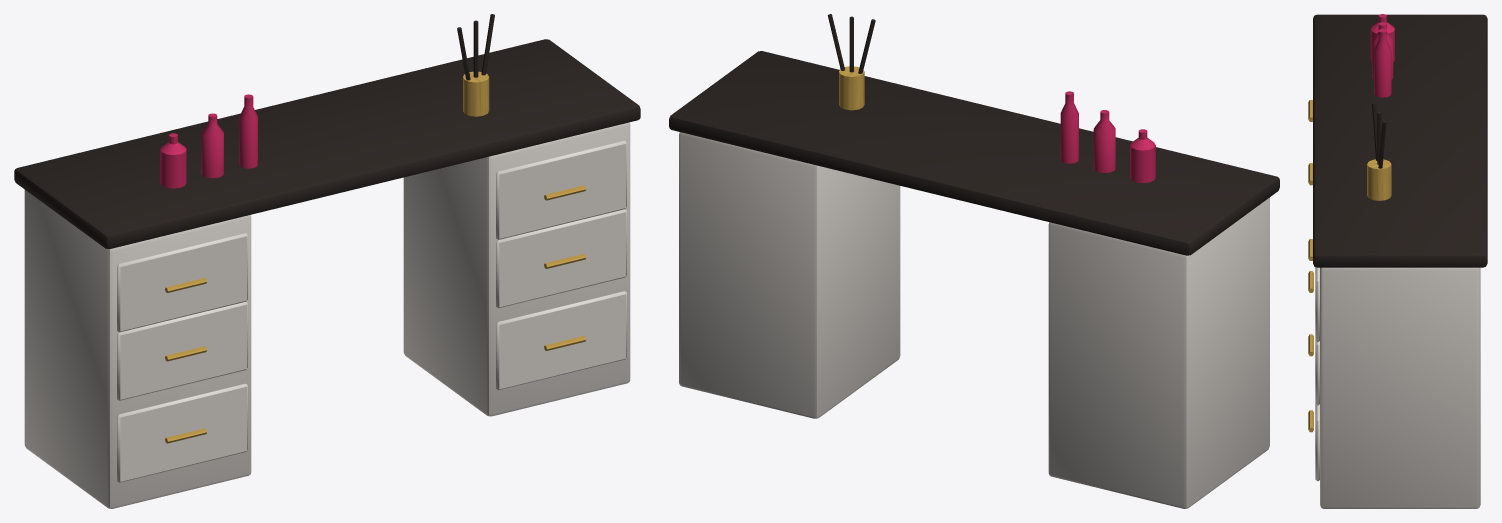
File: penteadeira.glb
3 renders of one model, left to right at view 1: azimuth 30°, elevation 25°; view 2: azimuth 150°, elevation 25°; view 3: azimuth 270°, elevation 25°, orthographic. The views are drawn at different scales.
Visible parts, largest first — view 1: tampo, gaveteiro, gaveteiro.001, frente-gaveta.003, frente-gaveta, frente-gaveta.002, frente-gaveta.005, frente-gaveta.001, frente-gaveta.004, frasco.001, frasco, frasco.002 (+1 smaller); view 2: gaveteiro, gaveteiro.001, tampo, frasco.001, frasco.002, frasco, copo-pinceis; view 3: tampo, gaveteiro.001, frasco.002, copo-pinceis, frasco, frente-gaveta.003, frente-gaveta.005, frasco.001, frente-gaveta.004, pincel, pincel.002.
Part boxes in pixels (box(x1,y1,x2,y2)): tampo: box(14, 39, 640, 249); gaveteiro: box(24, 190, 251, 508); gaveteiro.001: box(403, 122, 630, 416); frente-gaveta.003: box(496, 291, 626, 390); frente-gaveta: box(117, 383, 247, 482); frente-gaveta.002: box(117, 233, 247, 332); frente-gaveta.005: box(496, 140, 626, 239); frente-gaveta.001: box(117, 302, 247, 400); frente-gaveta.004: box(496, 209, 626, 308); frasco.001: box(201, 113, 223, 178); frasco: box(160, 133, 186, 188); frasco.002: box(239, 94, 257, 168); gaveteiro: box(1048, 197, 1269, 508); gaveteiro.001: box(679, 132, 900, 418); tampo: box(669, 51, 1279, 255); frasco.001: box(1093, 110, 1115, 172); frasco.002: box(1060, 91, 1078, 163); frasco: box(1130, 129, 1155, 183); copo-pinceis: box(839, 66, 864, 110); tampo: box(1313, 14, 1487, 267); gaveteiro.001: box(1320, 267, 1480, 508); frasco.002: box(1374, 29, 1391, 97); copo-pinceis: box(1367, 159, 1391, 200); frasco: box(1370, 14, 1394, 62); frente-gaveta.003: box(1315, 404, 1319, 481); frente-gaveta.005: box(1315, 267, 1319, 342); frasco.001: box(1372, 22, 1393, 79); frente-gaveta.004: box(1315, 340, 1319, 405); pincel: box(1372, 103, 1377, 160); pincel.002: box(1378, 120, 1386, 168).
Bounding box in the file's own units: 1.64 × 1.08 × 0.513.
Materials: 4 (1 with a texture image).
